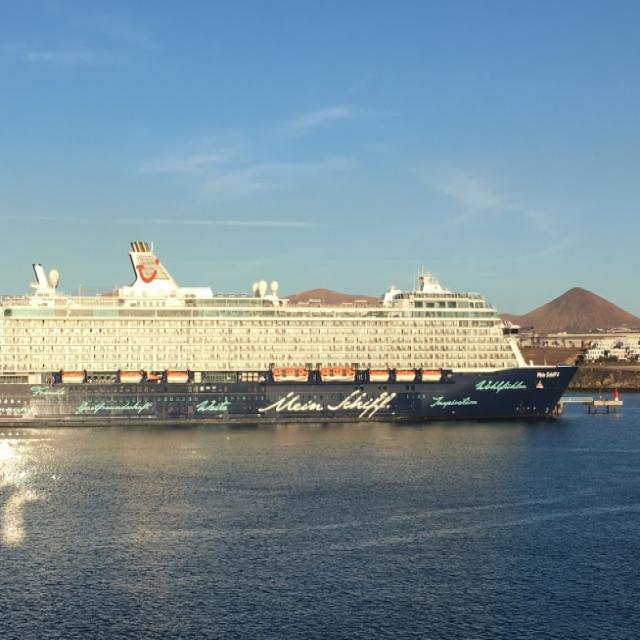cruises: (1, 236, 580, 433)
